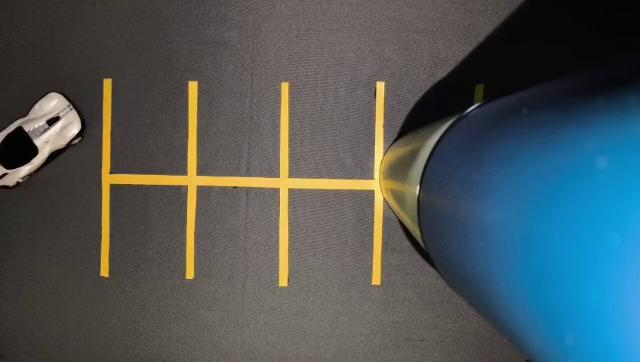toy_car: (0, 76, 102, 206)
